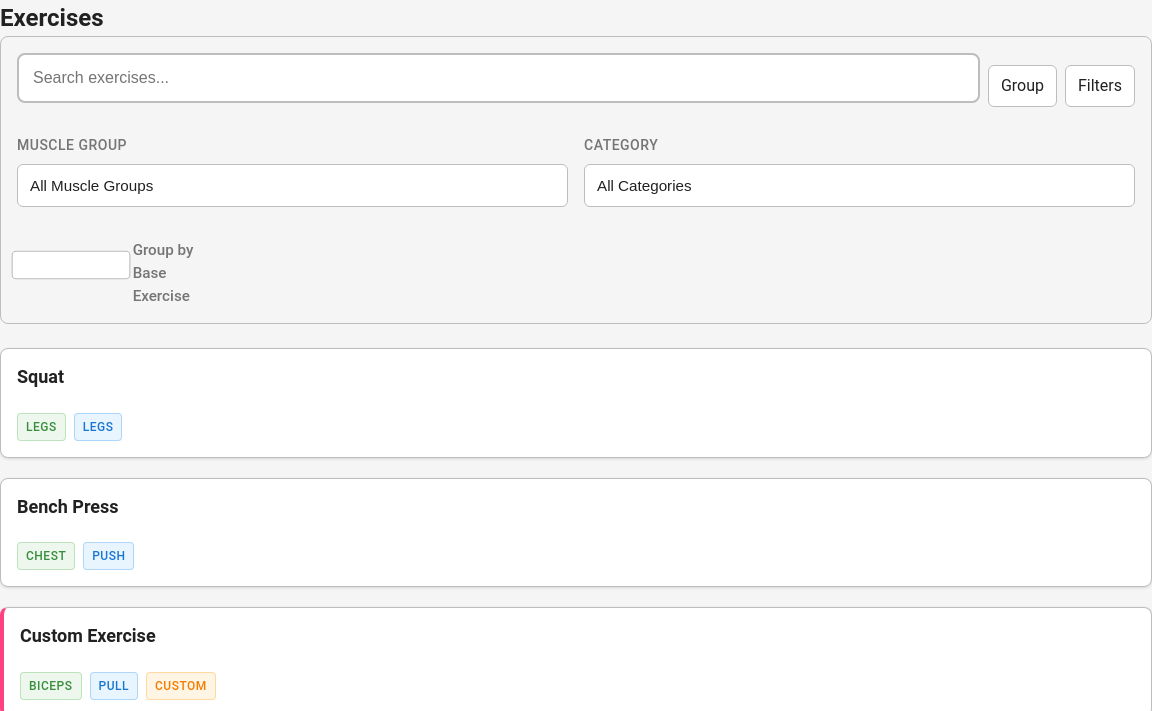
ExerciseList › groups exercises by base exercise
Click the checkbox labelled "Group by Base Exercise".
click(71, 265)  # box [12,251,130,280]
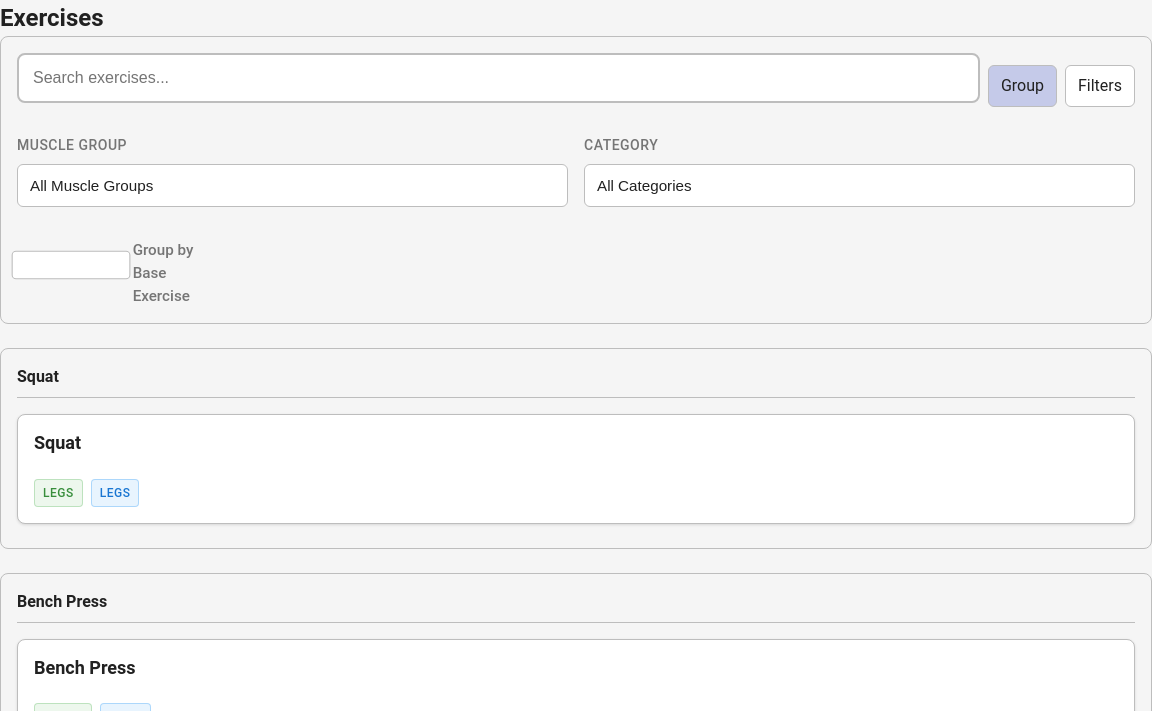
Check: the number of headings "Bench Press" is 2, box [17,590,1135,623]; [34,657,136,678]
